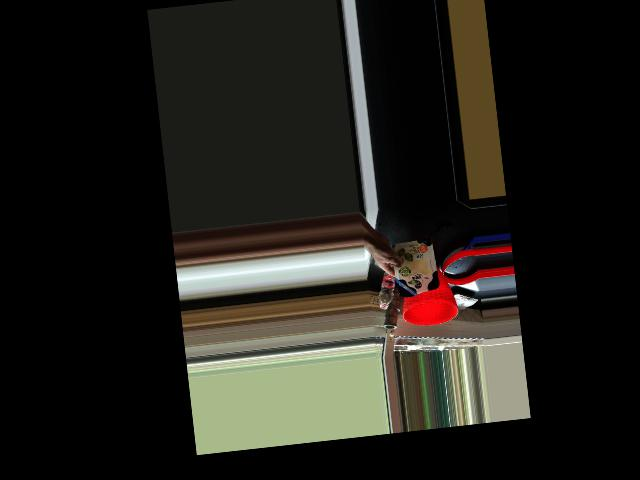cheese: (381, 242, 440, 299)
